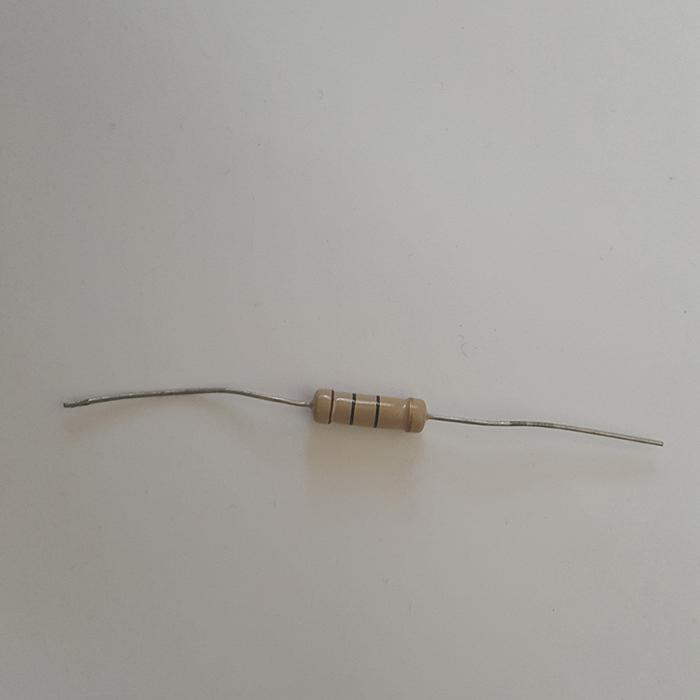resistor: (310, 386, 426, 432)
